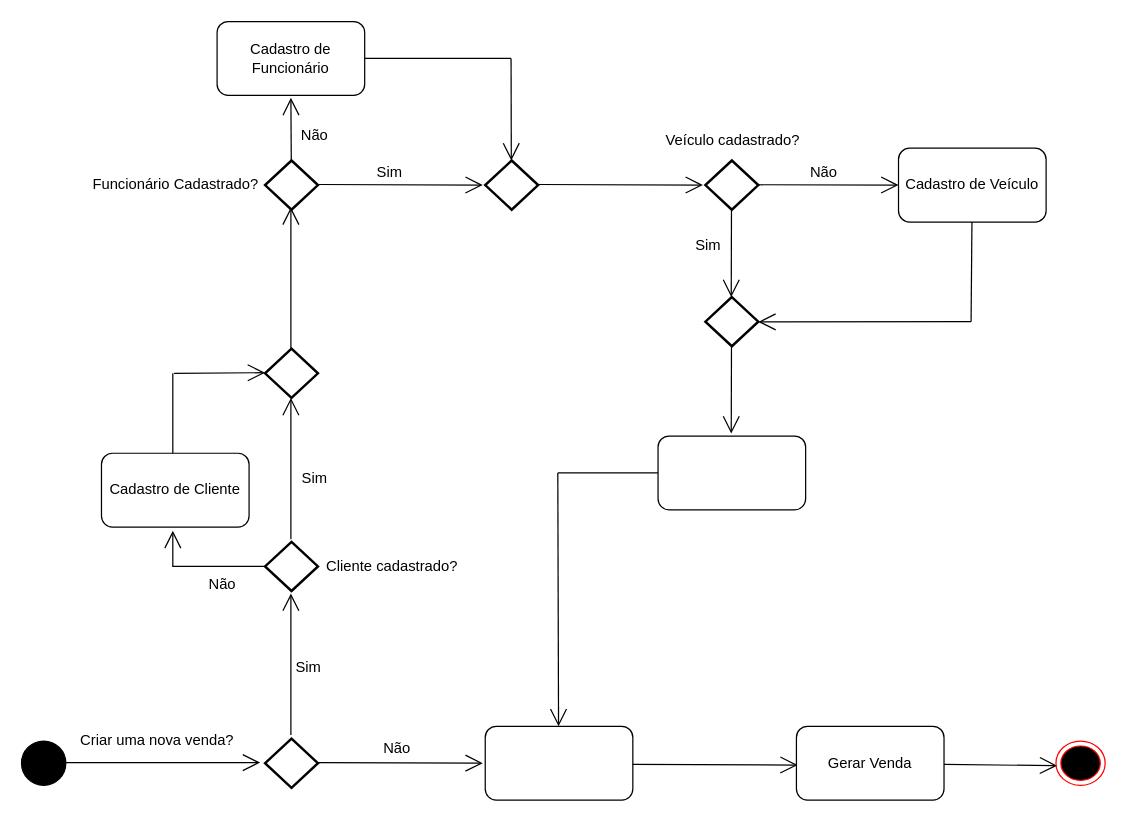
The diagram is 1127 pixels wide and 822 high, and some of its shapes have lost their labels. The shapes that lost their labels are listed below. From the top down, each one's centre as x and y in pixels, then its label:
At point 731,472: "Operação de Venda".
At point 558,762: "Listar Vendas".
